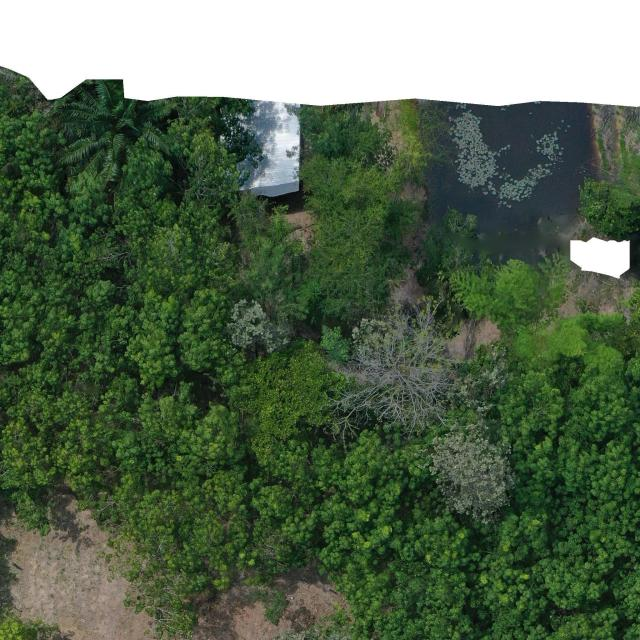Tree: (0, 66, 271, 576), (243, 293, 640, 640), (234, 156, 403, 322), (323, 291, 475, 447), (225, 337, 344, 468), (56, 80, 178, 186), (428, 420, 514, 525), (282, 103, 398, 172), (576, 176, 640, 242), (227, 295, 292, 356)
